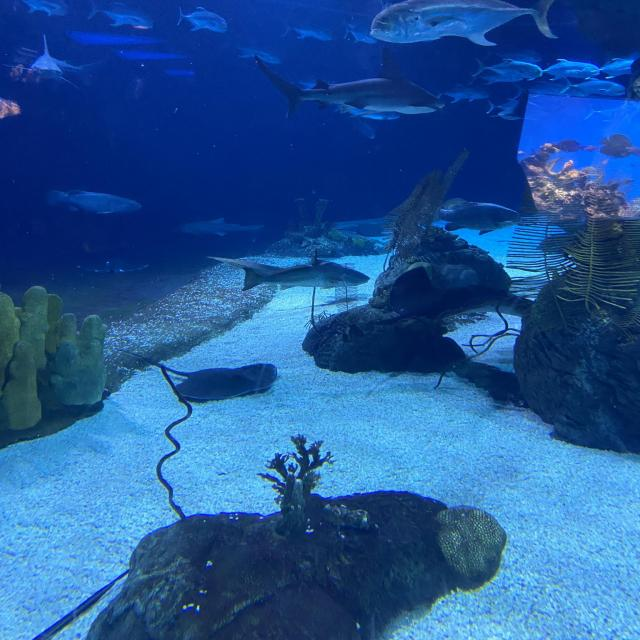fish: (372, 0, 560, 47), (241, 262, 370, 290), (428, 203, 522, 235), (48, 189, 144, 216), (86, 0, 155, 29), (471, 56, 542, 80), (175, 4, 227, 34), (226, 40, 282, 64), (561, 77, 627, 97), (540, 58, 599, 80), (282, 16, 331, 42), (16, 0, 72, 17), (514, 81, 566, 99), (596, 57, 640, 78), (446, 85, 489, 103), (599, 134, 632, 157), (343, 24, 374, 44), (352, 119, 375, 139), (555, 139, 587, 152), (625, 145, 640, 157)
shark: (254, 48, 441, 120), (5, 35, 106, 89), (172, 218, 264, 236), (486, 98, 532, 120)
stingray: (390, 266, 530, 318), (175, 364, 279, 402), (77, 258, 151, 274), (336, 222, 386, 235)
